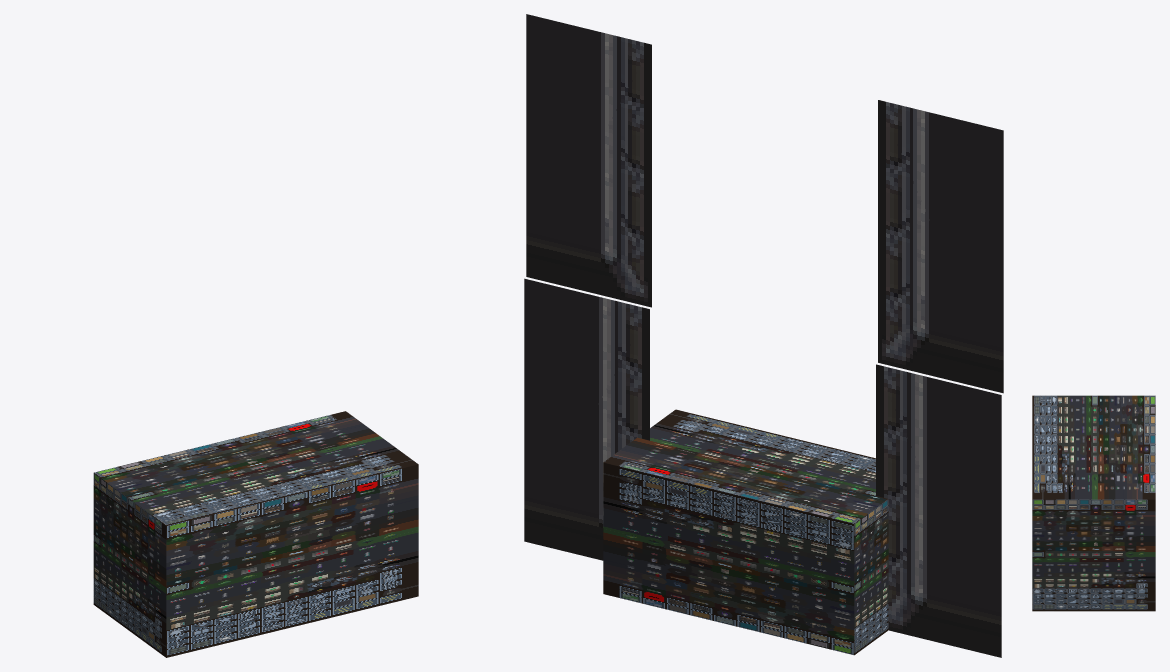
File: Visual_ExitPoint_W2_Down_B.glb
The picture shows the model from 3 angles, left to right: view 1: azimuth 30°, elevation 25°; view 2: azimuth 150°, elevation 25°; view 3: azimuth 270°, elevation 25°; orthographic projection. The views are drawn at different scales.
Visible parts, largest first — view 1: Renderer; view 2: Renderer, Quad (2), Quad (3), Quad (4), Quad (5); view 3: Renderer.
Part boxes in pixels (x1,y1,x2,y2): Renderer: (93, 411, 418, 657); Renderer: (603, 409, 888, 655); Quad (2): (878, 100, 1003, 393); Quad (3): (526, 14, 651, 307); Quad (4): (876, 364, 1001, 657); Quad (5): (524, 278, 649, 560); Renderer: (1032, 395, 1155, 611).
Size of the model in its own units: 1.9 by 2 by 0.5.
3 materials, 3 textured.
